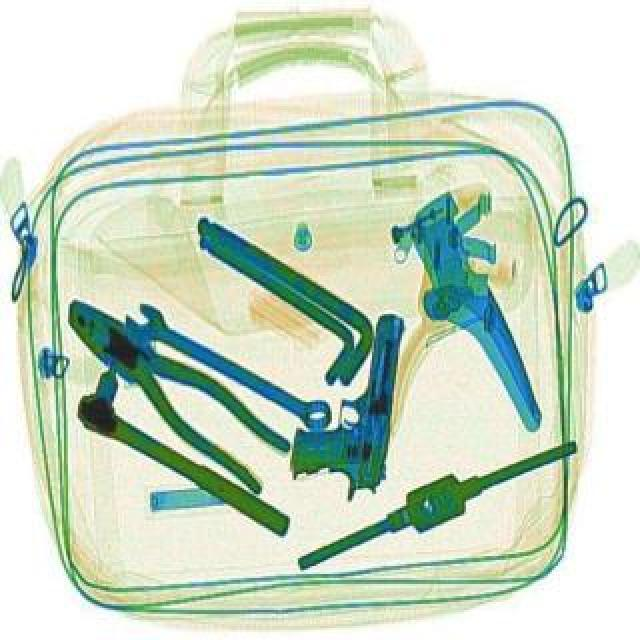gun: (288, 304, 404, 500)
scissors: (116, 296, 336, 438)
wrench: (44, 282, 304, 494)
